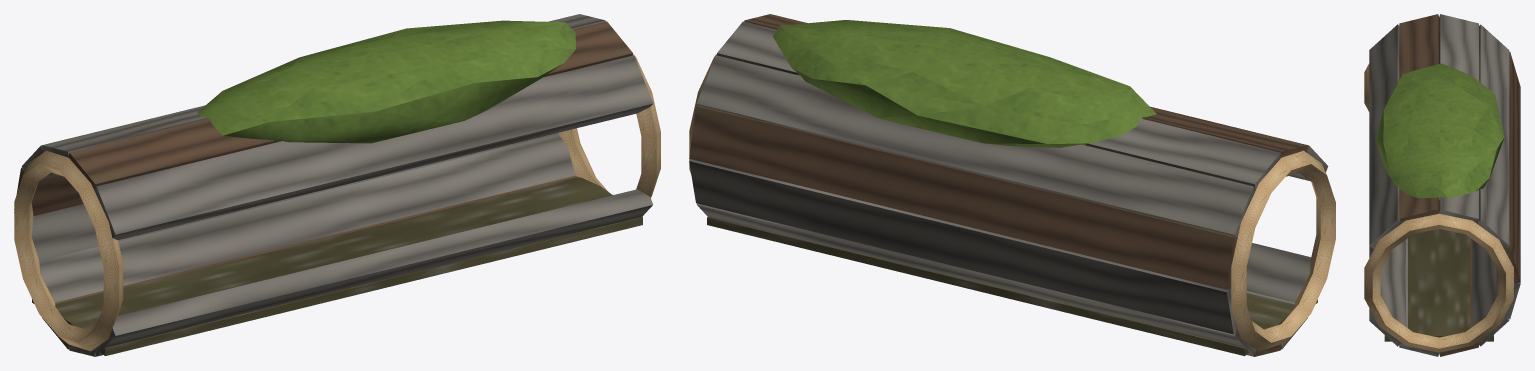
The model's file is SM_Landmark_GiantLog.fbx.
3 views of the same model, side by side, from view 1: azimuth 30°, elevation 25°; view 2: azimuth 150°, elevation 25°; view 3: azimuth 270°, elevation 25° (orthographic). The views are drawn at different scales.
Parts seen in each view (by area): view 1: SM_Landmark_GiantLog; view 2: SM_Landmark_GiantLog; view 3: SM_Landmark_GiantLog.
Part boxes in pixels (bbox=[...]): SM_Landmark_GiantLog: bbox=[14, 14, 660, 356]; SM_Landmark_GiantLog: bbox=[689, 14, 1335, 356]; SM_Landmark_GiantLog: bbox=[1364, 14, 1520, 356].
Bounding box in the file's own units: 22.8 × 8.6 × 7.43.
Materials: 1 (1 with a texture image).
